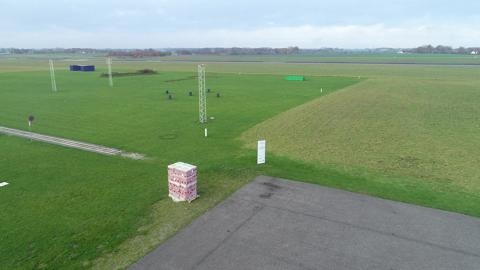RockwoolPallet: (167, 162, 198, 203)
